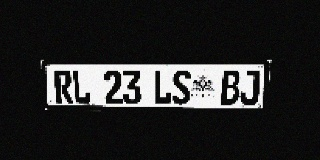2: (104, 70, 123, 104)
3: (122, 70, 141, 104)
B: (220, 70, 241, 105)
J: (239, 70, 260, 105)
L: (72, 70, 91, 104), (153, 70, 172, 104)
R: (53, 70, 73, 104)
S: (172, 70, 191, 104)
